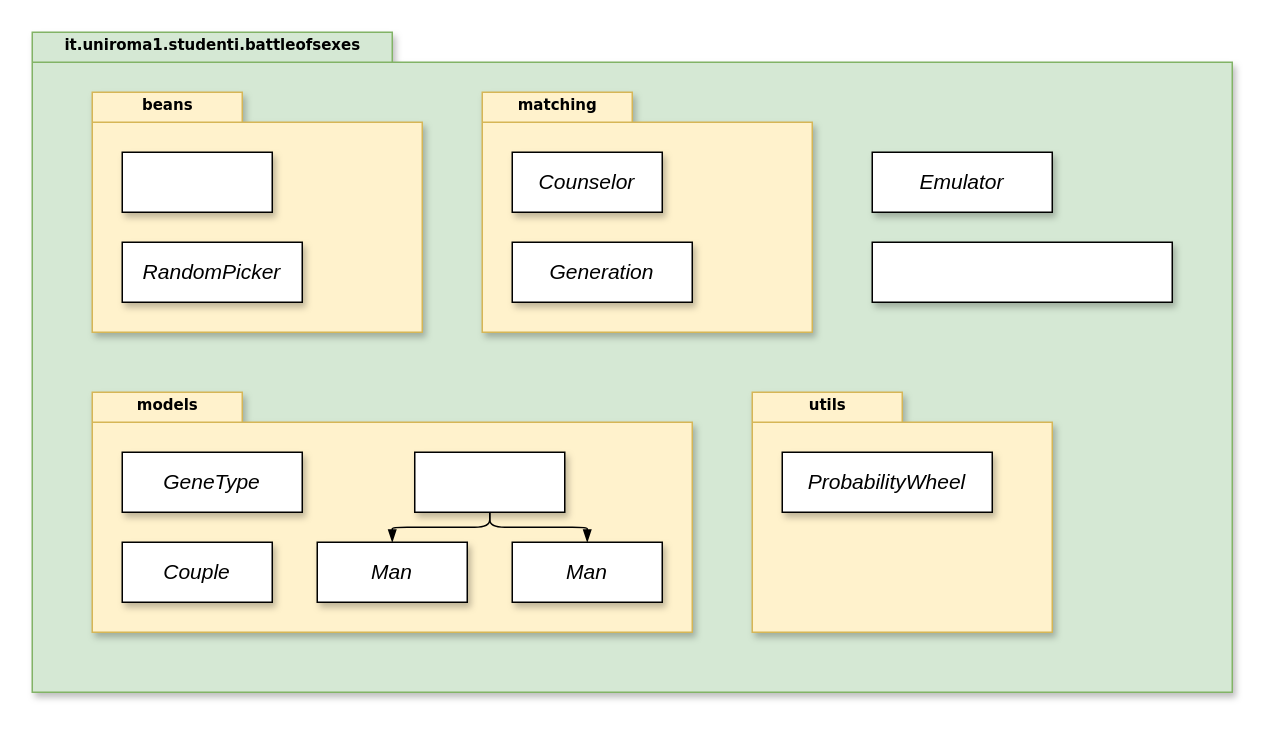
Image size: 1268x729. Some labels were removed from this diagram. Each missing label, with the centre of its shape:
BattleOfSexesApplication: point (1023, 274)
Human: point (490, 484)
PayoffTable: point (198, 184)
